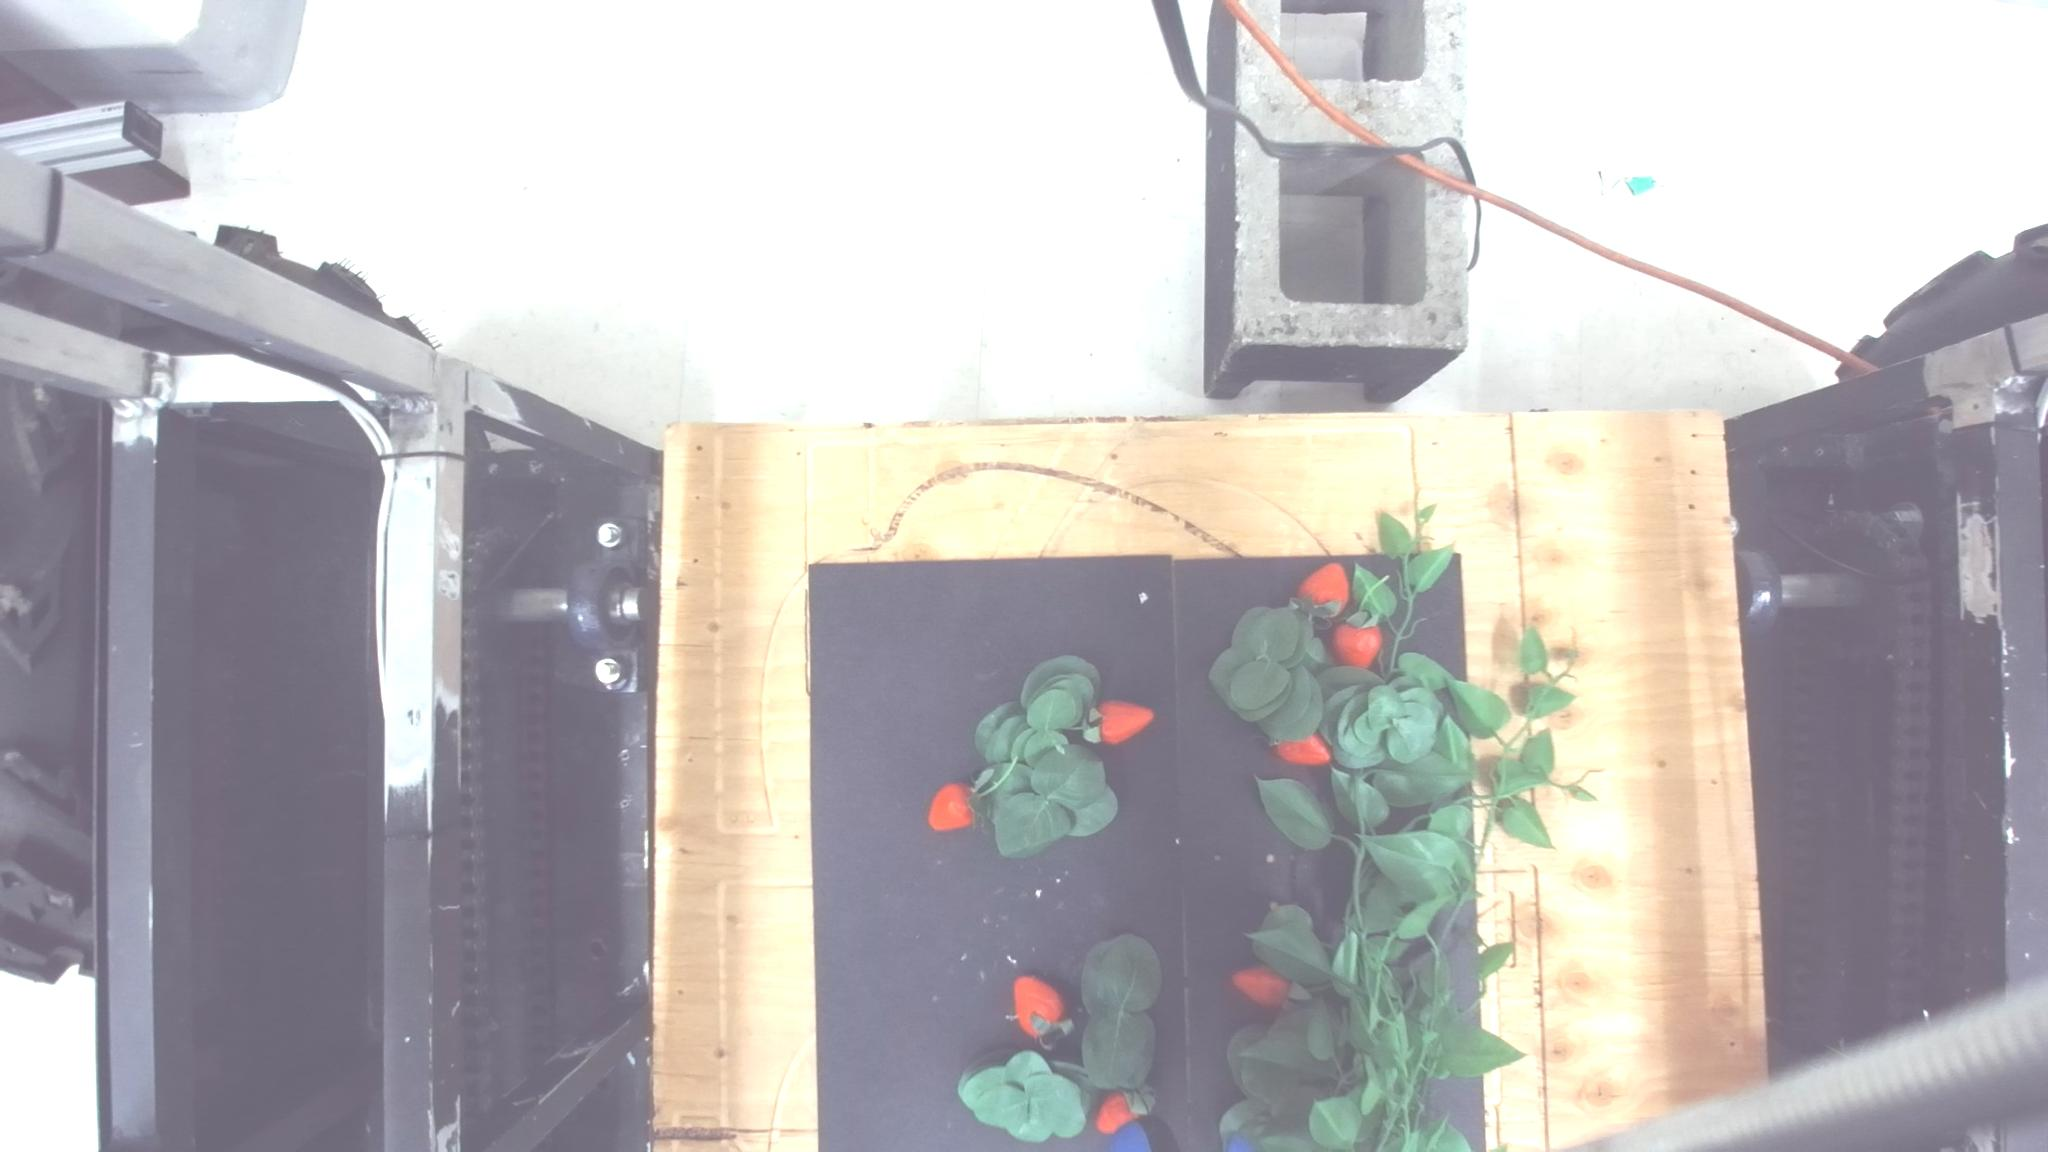strawberry: (1007, 975, 1072, 1044), (1084, 699, 1153, 745), (1294, 561, 1349, 619), (1231, 964, 1291, 1009), (1329, 619, 1383, 670), (927, 782, 976, 833), (1272, 731, 1331, 767), (1093, 1092, 1135, 1135)
